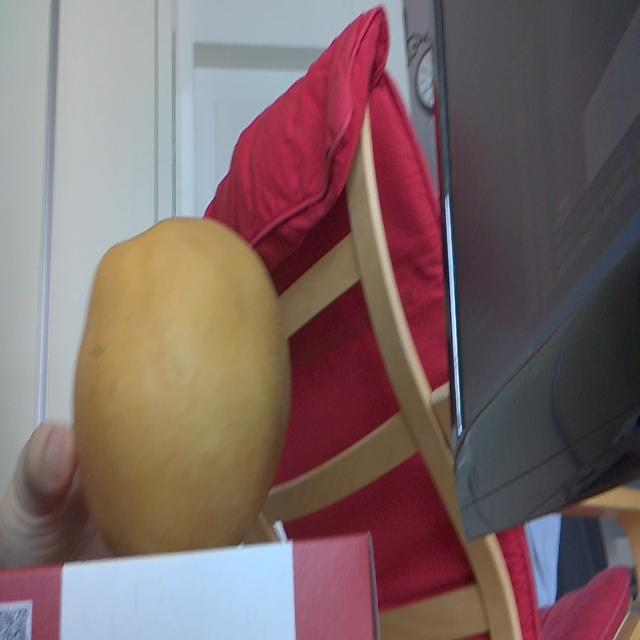pear: (74, 216, 292, 548)
